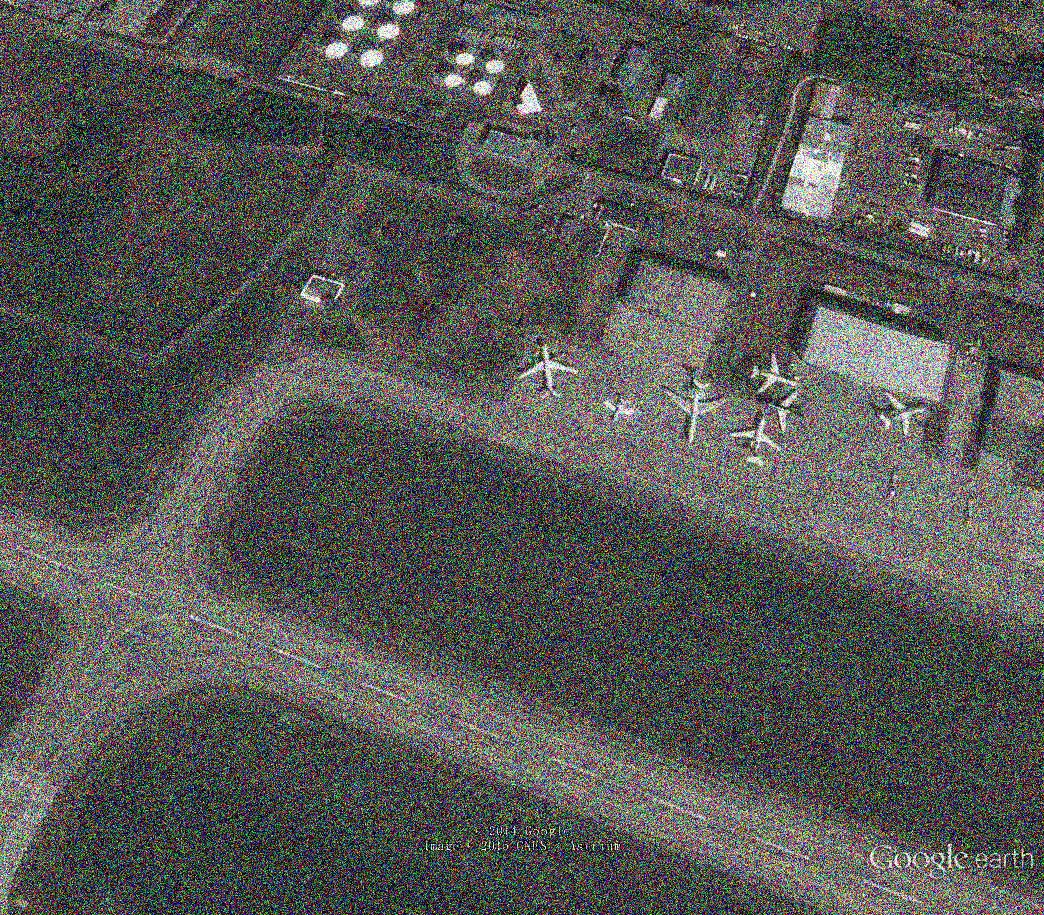aircraft: (660, 372, 732, 448), (513, 337, 580, 409), (730, 409, 789, 471), (873, 387, 934, 442), (756, 385, 819, 436), (744, 348, 801, 399), (595, 393, 639, 427)
